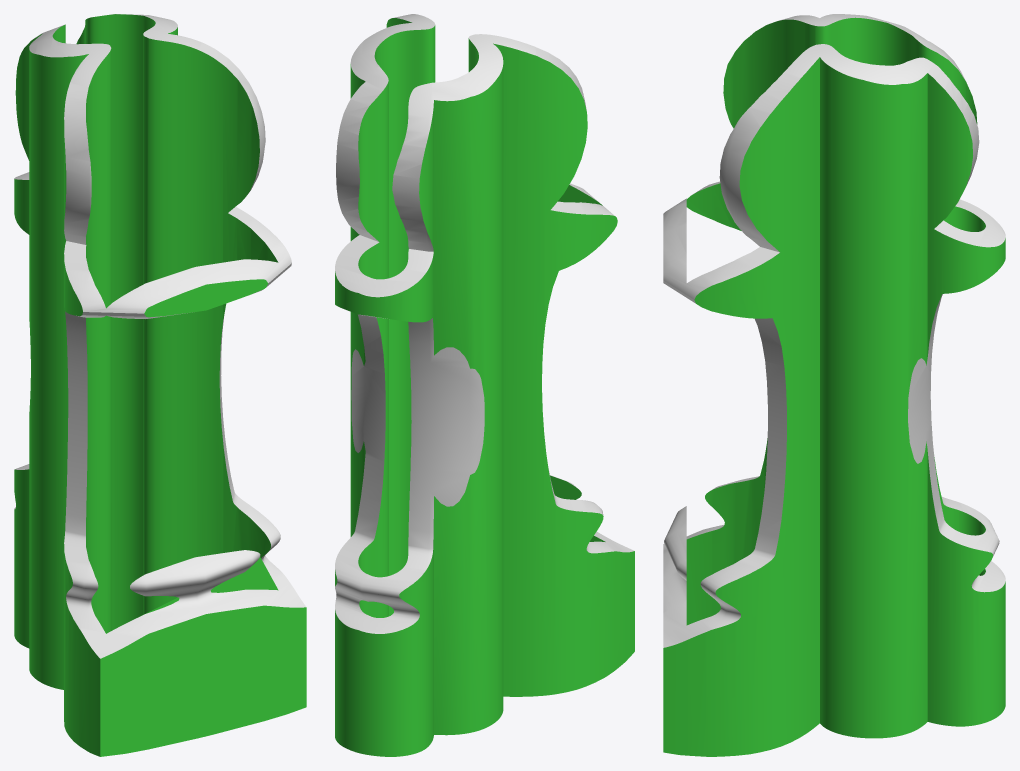
File: White_Pawn.fbx
The picture shows the model from 3 angles, left to right: view 1: azimuth 30°, elevation 25°; view 2: azimuth 150°, elevation 25°; view 3: azimuth 270°, elevation 25°; orthographic projection. The views are drawn at different scales.
Visible parts, largest first — view 1: White_Pawn; view 2: White_Pawn; view 3: White_Pawn.
Boxes of the visible parts, left/top/right/bottom form: White_Pawn: left=14, top=14, right=306, bottom=756; White_Pawn: left=335, top=14, right=634, bottom=756; White_Pawn: left=663, top=14, right=1005, bottom=756.
Bounding box in the file's own units: 29.1 × 39.88 × 86.09.
